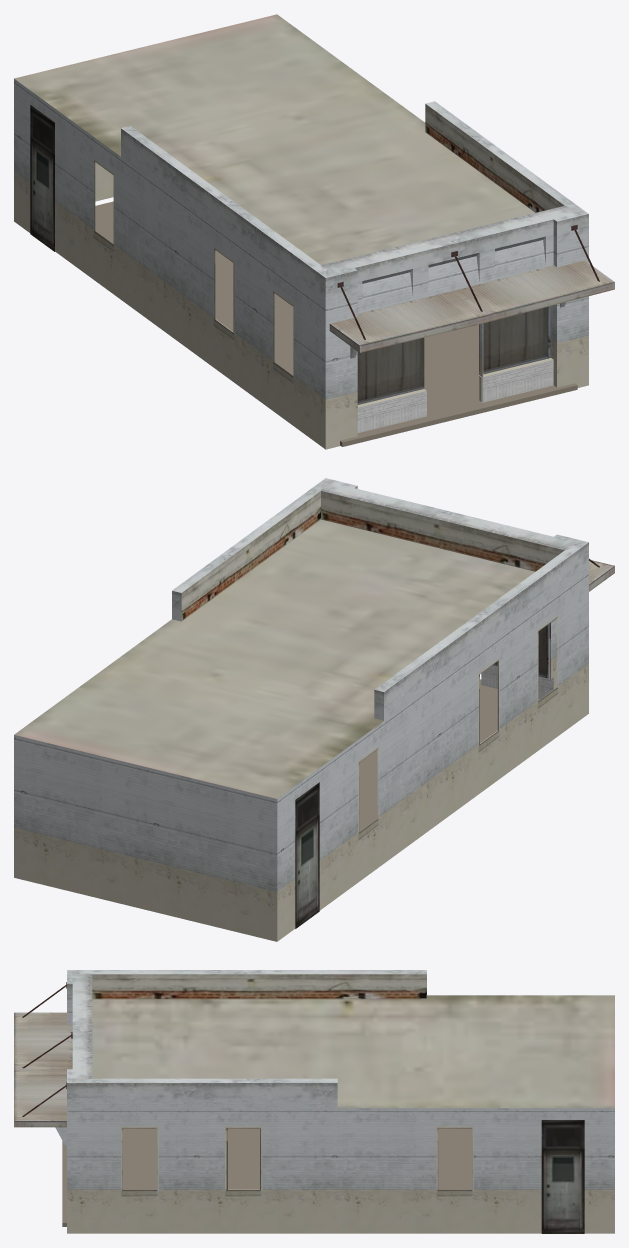
The model's file is rural-store-3.windows-v1.lod0.glb.
3 renders of one model, top to bottom at view 1: azimuth 30°, elevation 25°; view 2: azimuth 150°, elevation 25°; view 3: azimuth 270°, elevation 25°, orthographic. The views are drawn at different scales.
Parts seen in each view (by area): view 1: Rural_StoreSmall_3_Rural_Facade_FLR_2_0, Rural_StoreSmall_3_Rural_Midcity_Walls_FLR_1_0, Walkable floors and stairs; view 2: Rural_StoreSmall_3_Rural_Midcity_Walls_FLR_1_0, Rural_StoreSmall_3_Rural_Facade_FLR_2_0, Walkable floors and stairs; view 3: Rural_StoreSmall_3_Rural_Facade_FLR_2_0, Rural_StoreSmall_3_Rural_Midcity_Walls_FLR_1_0, Walkable floors and stairs.
Part boxes in pixels (x1,y1,x2,y2): Rural_StoreSmall_3_Rural_Facade_FLR_2_0: (14,14,614,404); Rural_StoreSmall_3_Rural_Midcity_Walls_FLR_1_0: (14,79,588,449); Walkable floors and stairs: (95,201,577,446); Rural_StoreSmall_3_Rural_Midcity_Walls_FLR_1_0: (14,478,588,941); Rural_StoreSmall_3_Rural_Facade_FLR_2_0: (14,491,614,928); Walkable floors and stairs: (359,679,539,831); Rural_StoreSmall_3_Rural_Facade_FLR_2_0: (14,974,614,1233); Rural_StoreSmall_3_Rural_Midcity_Walls_FLR_1_0: (55,970,614,1233); Walkable floors and stairs: (62,1128,472,1226).
Size of the model in its own units: 6.07 by 3.76 by 13.59.
4 materials, 2 textured.
